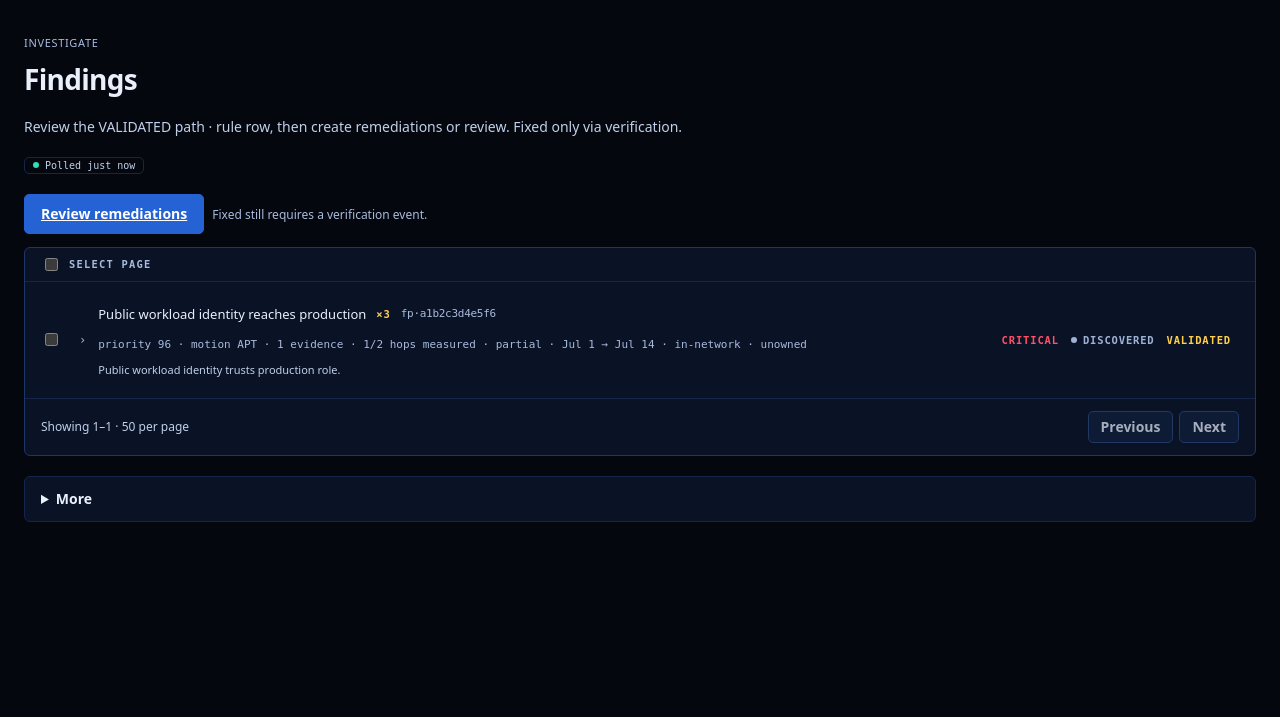
Test: FindingsWorkbench v2 › never displays raw Validated validation state for path-linked partial measurement [UX-W11]
Click the button with aria-label "Expand finding: Public workload identity reaches production" at (656, 340), box x1=73 y1=291 x2=1239 y2=389
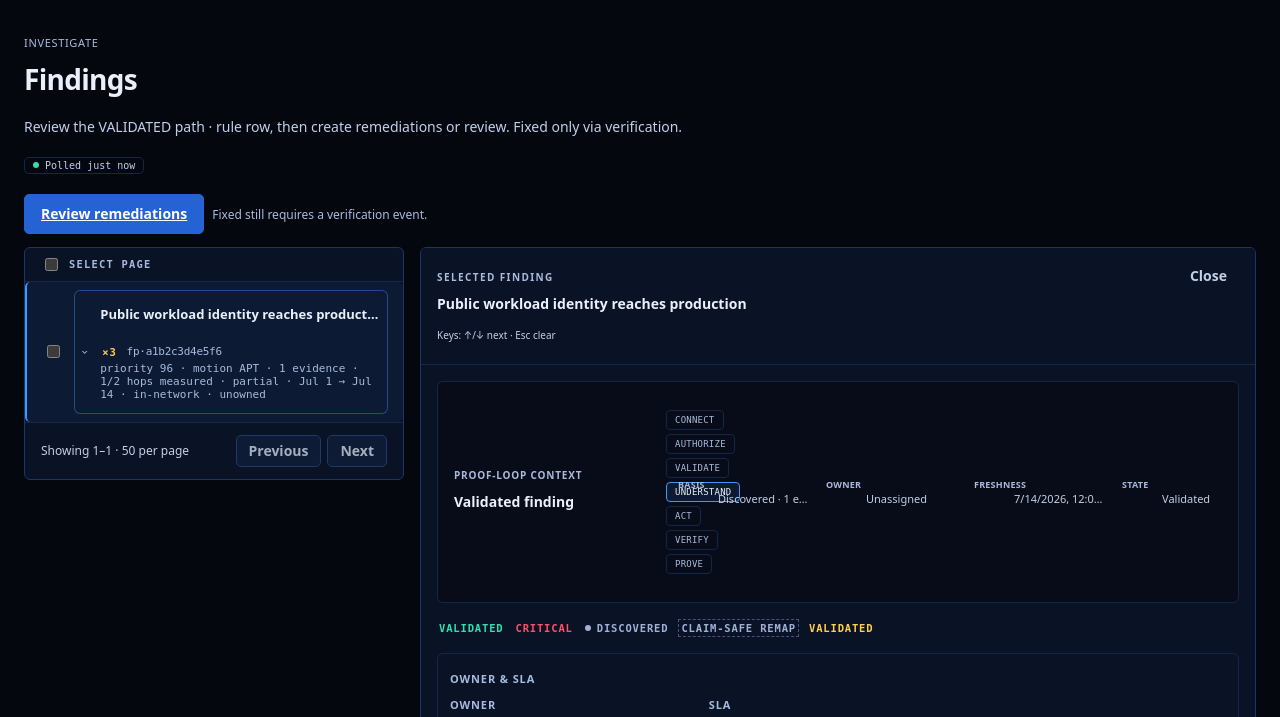
Expected: the message with test id "finding-claim-safe-validation-state" does not show "Validated", x1=583 y1=619 x2=670 y2=637
Expected: the message with test id "finding-claim-safe-validation-state" reads "Discovered", x1=597 y1=622 x2=668 y2=634
Expected: the message with test id "finding-claim-safe-remap-note" reads "claim-safe remap", x1=681 y1=622 x2=796 y2=634
